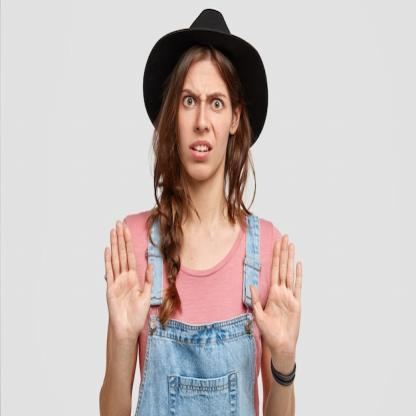stop: (244, 232, 312, 363), (102, 219, 156, 346)
